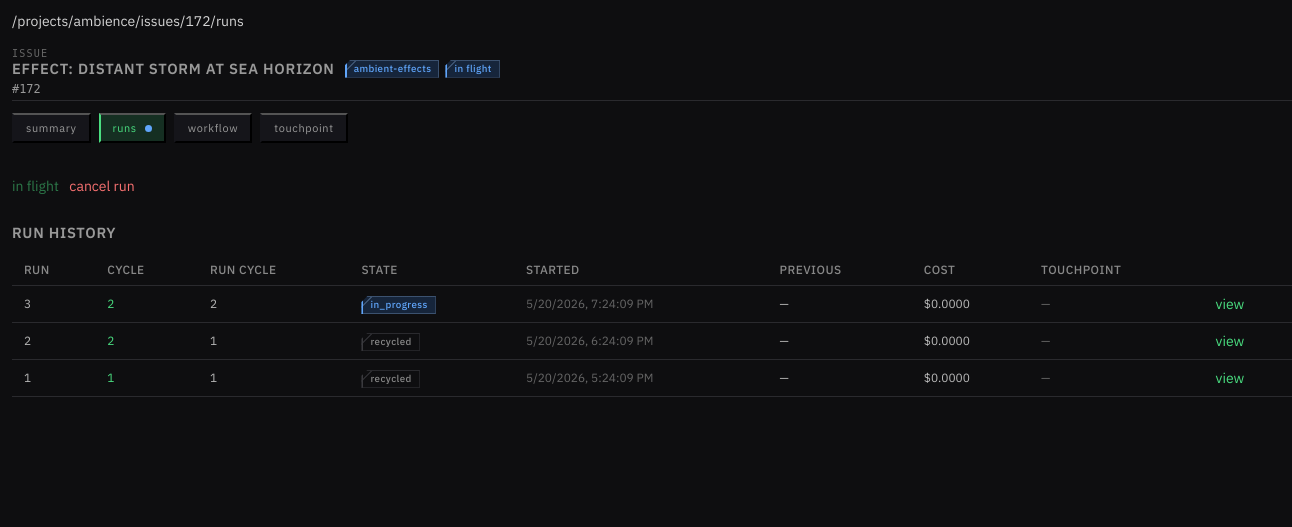
it: IssueDetailView run execution graph › shows run history as flat run counts, base cycle values, and run-cycle ordinals
The image size is (1292, 527).
Expected: the cell "3" is shown, x1=12 y1=286 x2=95 y2=322
Expected: the button "2" in the row of "5/20/2026, 7:24:09 PM" is shown, x1=107 y1=296 x2=114 y2=312
Click the button "recycled" next to "5/20/2026, 6:24:09 PM" at point(391, 341), box x1=362 y1=331 x2=420 y2=351
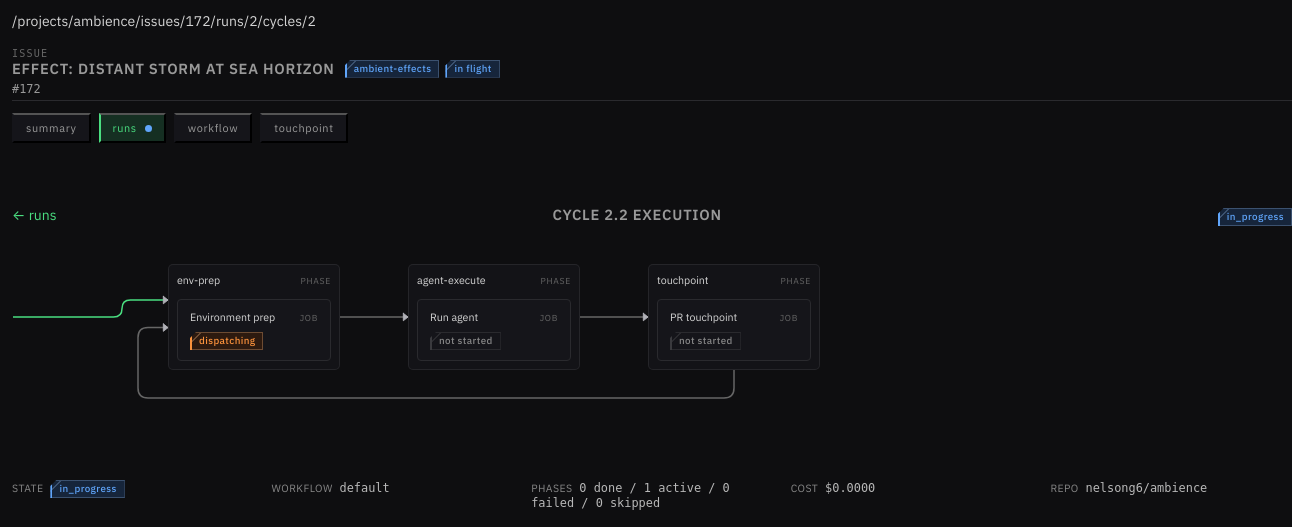
Now the text with test id "path" reads "/projects/ambience/issues/172/runs/2/cycles/2", box x1=12 y1=12 x2=316 y2=30
